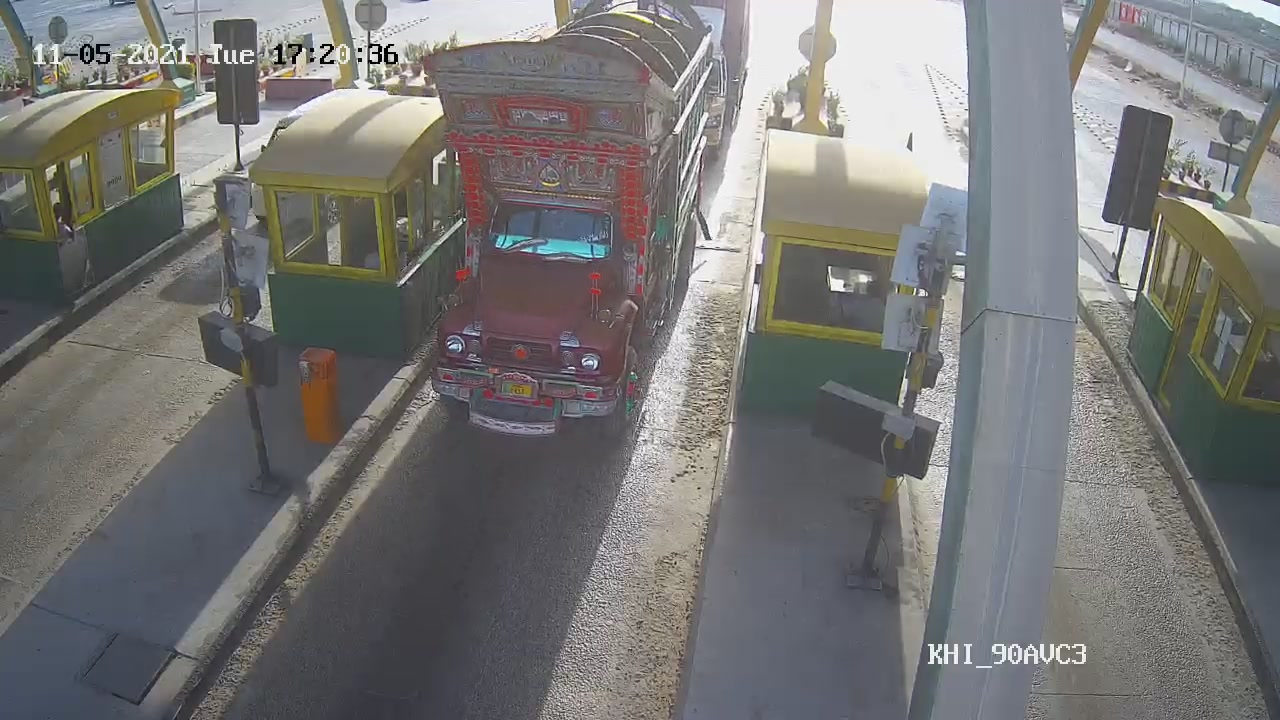F5: (427, 1, 710, 447)
